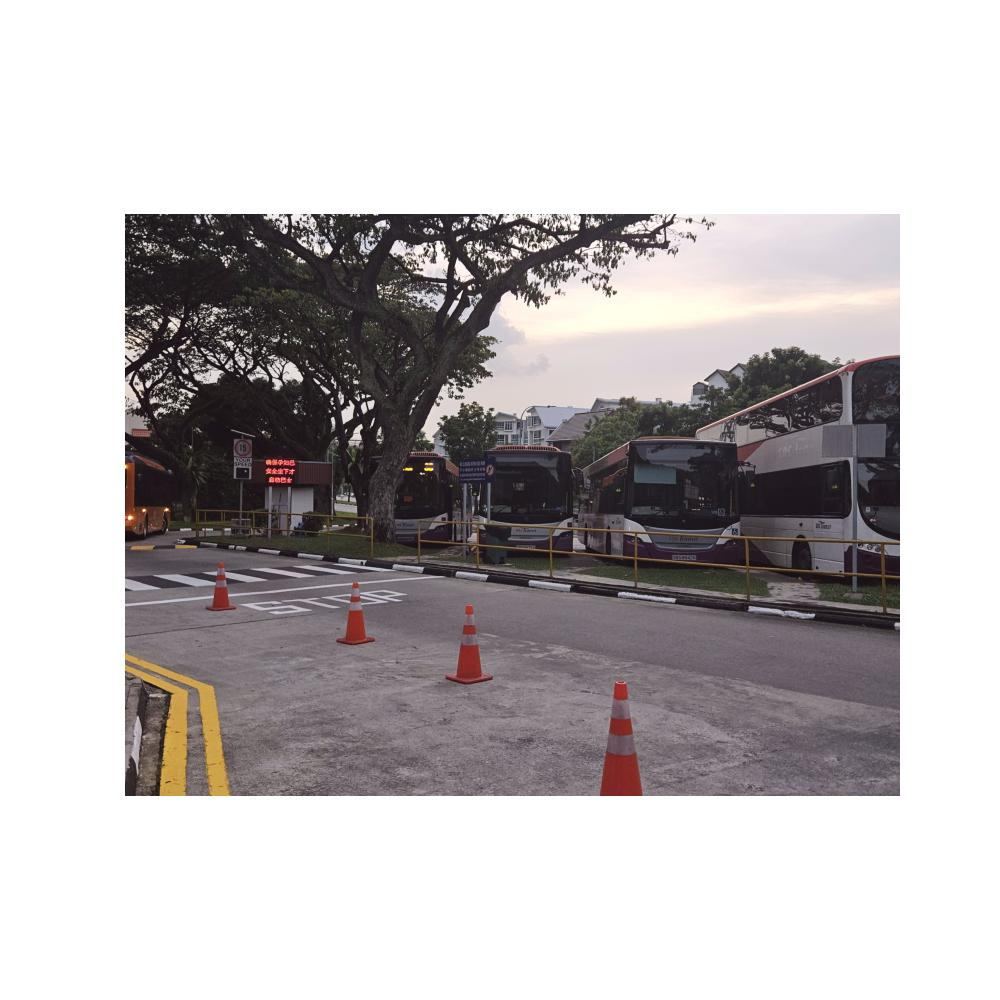bus: (697, 355, 897, 590), (577, 434, 738, 577), (475, 439, 576, 564), (360, 443, 465, 552)
